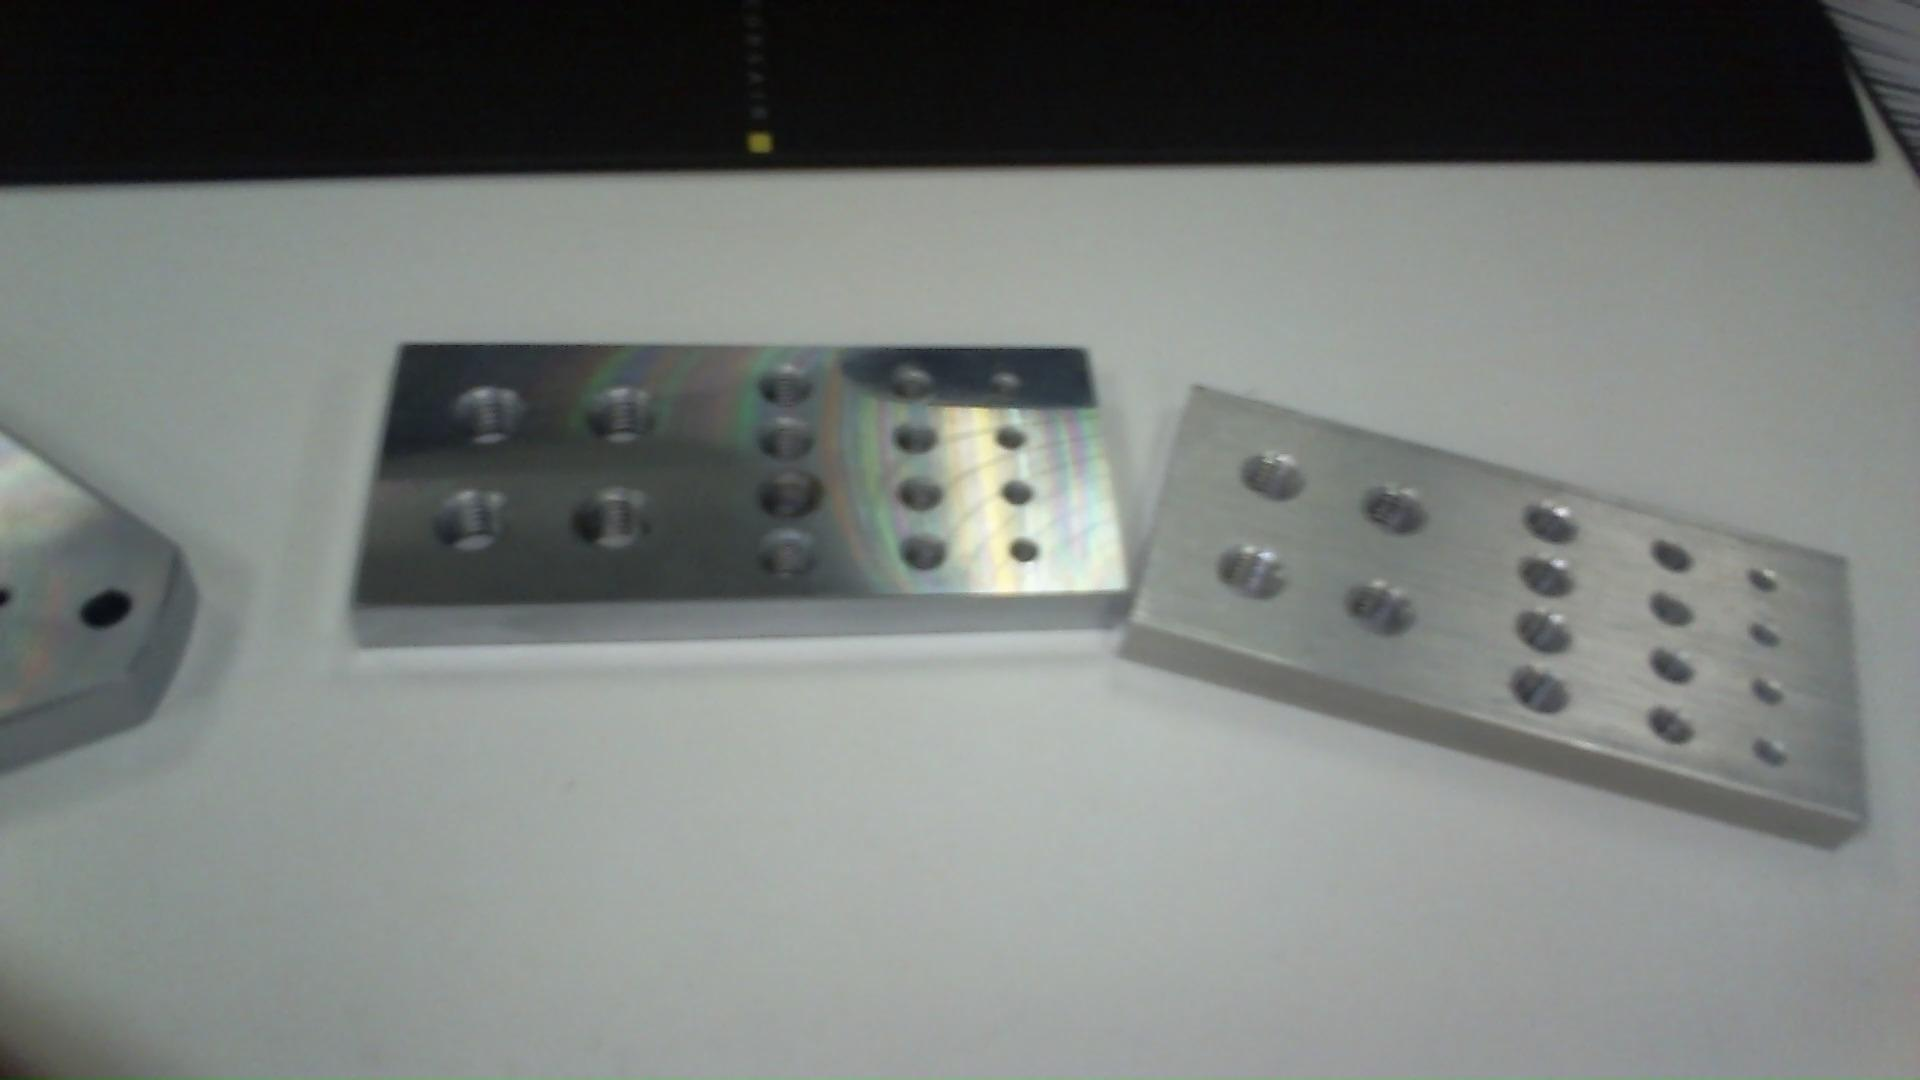hole: (1208, 530, 1299, 615), (566, 480, 654, 563), (1331, 575, 1425, 650), (575, 375, 666, 452), (451, 372, 533, 455), (427, 488, 524, 555), (1356, 473, 1441, 546), (1236, 442, 1313, 517), (1515, 492, 1596, 554), (1509, 553, 1593, 605), (1502, 663, 1578, 721), (1507, 605, 1590, 657), (1638, 692, 1704, 756), (757, 465, 820, 525), (754, 415, 824, 467), (1646, 530, 1709, 583), (752, 529, 822, 576), (1644, 589, 1706, 642), (1644, 646, 1712, 694), (754, 357, 814, 410), (886, 353, 940, 405), (997, 530, 1051, 580), (898, 475, 948, 522), (898, 530, 948, 578), (886, 418, 940, 460), (986, 419, 1033, 465), (1737, 608, 1785, 651), (1739, 560, 1785, 603), (994, 472, 1042, 513), (985, 361, 1030, 404), (1750, 731, 1792, 775), (1747, 676, 1795, 709)
